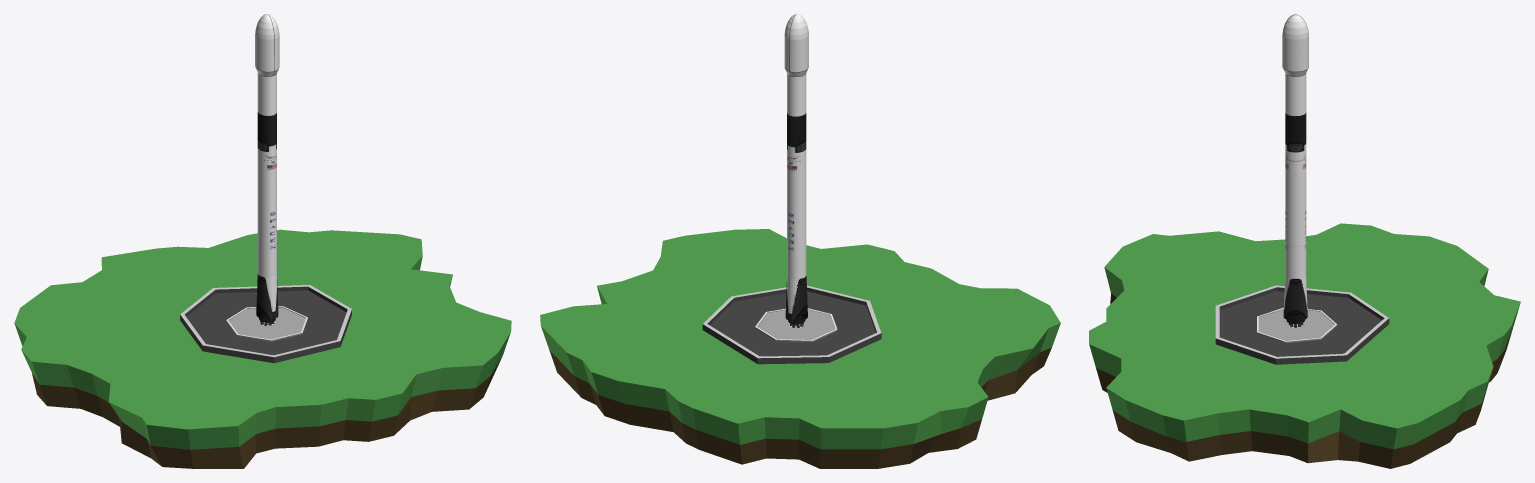
The model's file is animation.gltf.
3 renders of one model, left to right at view 1: azimuth 30°, elevation 25°; view 2: azimuth 150°, elevation 25°; view 3: azimuth 270°, elevation 25°, orthographic.
Visible parts, largest first — view 1: Plane, ground, Cylinder.052, Cylinder.001; view 2: Plane, ground, Cylinder.052, Cylinder.001; view 3: Plane, ground, Cylinder.052, Cylinder.001.
Boxes of the visible parts, <box> form: Plane: <box>14,229,511,468</box>; ground: <box>180,285,351,363</box>; Cylinder.052: <box>255,14,279,325</box>; Cylinder.001: <box>226,306,307,341</box>; Plane: <box>540,229,1060,468</box>; ground: <box>702,285,881,364</box>; Cylinder.052: <box>784,14,808,327</box>; Cylinder.001: <box>755,308,837,342</box>; Plane: <box>1089,223,1520,468</box>; ground: <box>1215,285,1389,364</box>; Cylinder.052: <box>1282,14,1308,327</box>; Cylinder.001: <box>1257,307,1337,343</box>.
Size of the model in its own units: 8.06 by 6.61 by 7.18.
9 materials, 1 textured.
